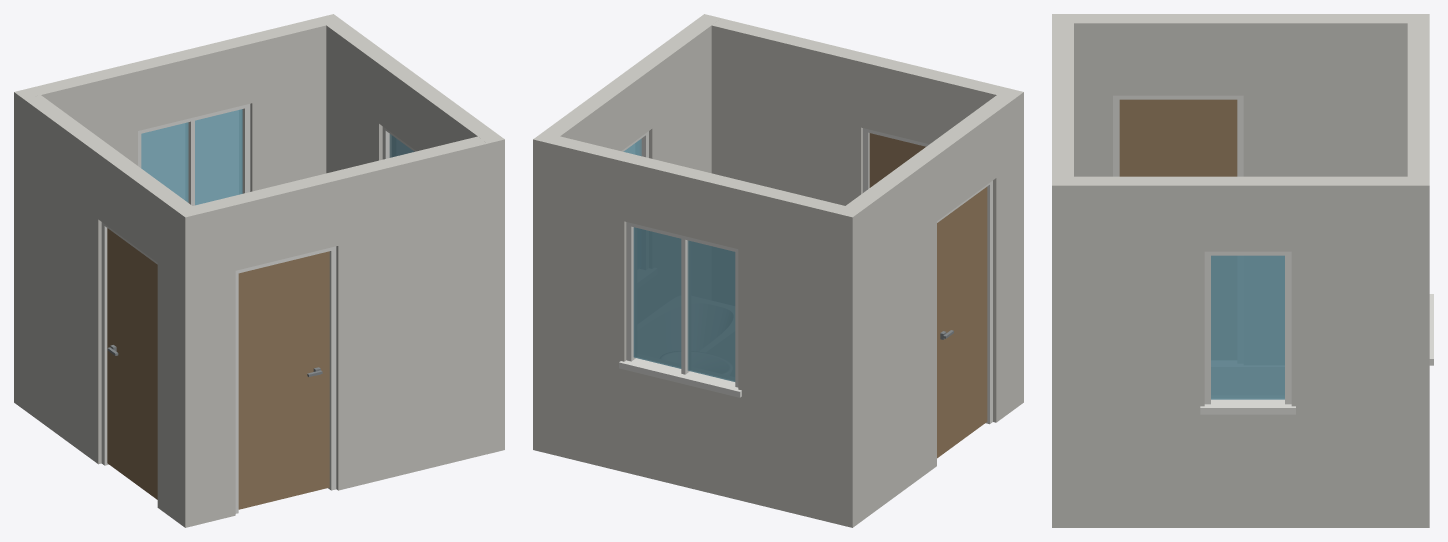
The model's file is oursv11b.glb.
3 renders of one model, left to right at view 1: azimuth 30°, elevation 25°; view 2: azimuth 150°, elevation 25°; view 3: azimuth 270°, elevation 25°, orthographic. The views are drawn at different scales.
Parts seen in each view (by area): view 1: wall|scenesmith_100__R00|0, wall|scenesmith_100__R00|2, wall|scenesmith_100__R00|1, wall|scenesmith_100__R00|0 Door 0 | wood leaf, wall|scenesmith_100__R00|3, wall|scenesmith_100__R00|2 Door 0 | wood leaf, wall|scenesmith_100__R00|1 Window 0 | glazing, wall|scenesmith_100__R00|0 Door 0 | jamb, wall|scenesmith_100__R00|1 Window 0 | jamb, wall|scenesmith_100__R00|2 Door 0 | jamb; view 2: wall|scenesmith_100__R00|1, wall|scenesmith_100__R00|2, wall|scenesmith_100__R00|0, wall|scenesmith_100__R00|3, wall|scenesmith_100__R00|1 Window 0 | glazing, wall|scenesmith_100__R00|2 Door 0 | wood leaf, wall|scenesmith_100__R00|1 Window 0 | jamb, wall|scenesmith_100__R00|0 Door 0 | wood leaf, wall|scenesmith_100__R00|2 Door 0 | jamb, wall|scenesmith_100__R00|0 Door 0 | jamb; view 3: wall|scenesmith_100__R00|3, wall|scenesmith_100__R00|2, wall|scenesmith_100__R00|1, wall|scenesmith_100__R00|0, wall|scenesmith_100__R00|3 Window 0 | glazing, wall|scenesmith_100__R00|2 Door 0 | wood leaf, wall|scenesmith_100__R00|3 Window 0 | jamb, wall|scenesmith_100__R00|2 Door 0 | jamb.
Boxes of the visible parts, x1,y1,x2,y2 form: wall|scenesmith_100__R00|0: [175, 136, 487, 527]; wall|scenesmith_100__R00|2: [24, 95, 202, 527]; wall|scenesmith_100__R00|1: [14, 14, 341, 409]; wall|scenesmith_100__R00|0 Door 0 | wood leaf: [238, 251, 329, 509]; wall|scenesmith_100__R00|3: [317, 14, 504, 453]; wall|scenesmith_100__R00|2 Door 0 | wood leaf: [107, 228, 157, 499]; wall|scenesmith_100__R00|1 Window 0 | glazing: [141, 109, 242, 205]; wall|scenesmith_100__R00|0 Door 0 | jamb: [235, 246, 336, 513]; wall|scenesmith_100__R00|1 Window 0 | jamb: [138, 104, 250, 205]; wall|scenesmith_100__R00|2 Door 0 | jamb: [101, 222, 157, 465]; wall|scenesmith_100__R00|1: [533, 132, 862, 527]; wall|scenesmith_100__R00|2: [835, 88, 1023, 527]; wall|scenesmith_100__R00|0: [711, 18, 1023, 409]; wall|scenesmith_100__R00|3: [533, 14, 720, 453]; wall|scenesmith_100__R00|1 Window 0 | glazing: [633, 227, 735, 381]; wall|scenesmith_100__R00|2 Door 0 | wood leaf: [937, 187, 987, 458]; wall|scenesmith_100__R00|1 Window 0 | jamb: [619, 222, 741, 397]; wall|scenesmith_100__R00|0 Door 0 | wood leaf: [869, 133, 925, 187]; wall|scenesmith_100__R00|2 Door 0 | jamb: [937, 180, 992, 424]; wall|scenesmith_100__R00|0 Door 0 | jamb: [863, 128, 928, 192]; wall|scenesmith_100__R00|3: [1052, 176, 1429, 527]; wall|scenesmith_100__R00|2: [1052, 14, 1407, 176]; wall|scenesmith_100__R00|1: [1407, 14, 1429, 527]; wall|scenesmith_100__R00|0: [1052, 23, 1073, 527]; wall|scenesmith_100__R00|3 Window 0 | glazing: [1211, 255, 1284, 399]; wall|scenesmith_100__R00|2 Door 0 | wood leaf: [1119, 99, 1237, 176]; wall|scenesmith_100__R00|3 Window 0 | jamb: [1200, 251, 1295, 414]; wall|scenesmith_100__R00|2 Door 0 | jamb: [1113, 95, 1243, 176].
Size of the model in its own units: 2.83 by 2.61 by 2.63.
